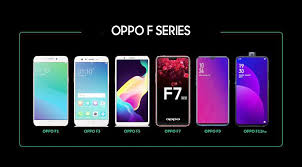oppo: (154, 53, 191, 129), (115, 52, 152, 128), (73, 53, 110, 129), (31, 57, 68, 133), (195, 53, 232, 129), (233, 53, 270, 129)
